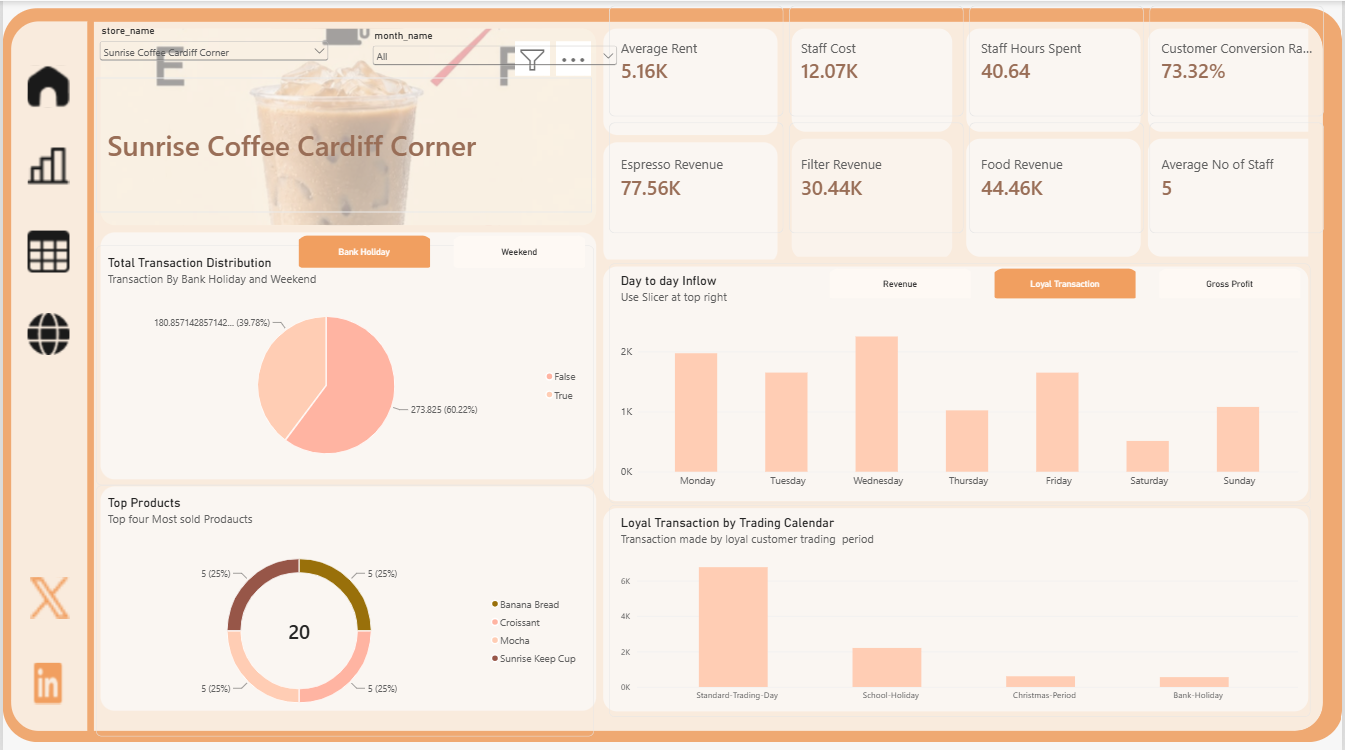

The dashboard page shown, as its layout file describes it:
{"tool":"powerbi","page":{"name":"Store_page","canvas":[1920,1080],"ordinal":1},"visuals":[{"type":"pieChart","title":"Total Transaction Distribution","fields":{"Series":["dim_date.is_uk_bank_holiday"],"Y":["Measure.AVG_total_transaction"]},"box":[133.6,350.7,713.4,343.6],"z":0},{"type":"clusteredColumnChart","title":"Day  to day Inflow","fields":{"Category":["dim_date.day_of_week"],"Y":["Measure.Total_daliy_loyal_transaction"]},"box":[868.5,377,1004.5,343.6],"z":1000},{"type":"cardVisual","fields":{"Data":["Measure.AVG_rent","Measure.AVG_Staff_cost","Measure.AVG_staff_hours","Measure.customer_conversion_rate","Measure.Total_espresso_revenue","Measure.Total_filter_revenue","Measure.Total_food_revenue","Measure.Total_staff_counts"]},"box":[868.5,7.2,1025.9,326.9],"z":2000},{"type":"advancedSlicerVisual","fields":{"Values":["Daliy_store_parameter.Daliy_store_parameter"]},"box":[1171.5,377,701.5,59.6],"z":3000},{"type":"advancedSlicerVisual","fields":{"Values":["Weekday&Holiday.Weekday&Holiday"]},"box":[410.4,329.3,437.5,62.5],"z":4000},{"type":"columnChart","title":"Loyal Transaction by Trading Calendar","fields":{"Category":["dim_date.uk_trading_calendar"],"Y":["Measure.Total_daliy_loyal_transaction"]},"box":[868.5,722.9,1004.5,303],"z":5000},{"type":"donutChart","title":"Top Products ","fields":{"Category":["dim_product.product_name"],"Y":["Daliy_store_parameter.Product_count"]},"box":[133.6,694.3,713.6,359.5],"z":6000},{"type":"actionButton","box":[17.1,75.7,95.7,94.3],"z":7000},{"type":"actionButton","box":[17.1,190,95.7,94.3],"z":8000},{"type":"actionButton","box":[17.1,311.4,95.7,94.3],"z":9000},{"type":"actionButton","box":[17.1,430,95.7,94.3],"z":10000},{"type":"actionButton","box":[17.5,930,95.7,94.3],"z":11000},{"type":"actionButton","box":[18.6,807.1,95.7,94.3],"z":12000},{"type":"slicer","fields":{"Values":["dim_store.store_name"]},"box":[132.3,33.8,337.8,73.2],"z":13000},{"type":"cardVisual","fields":{"Data":["Measure.Current Store Selection"]},"box":[132.5,110,712.5,192.5],"z":14000},{"type":"slicer","fields":{"Values":["dim_date.month_name"]},"box":[524.9,40.6,360.3,59.6],"z":16000}]}

Visuals, with their boxes on the page's 1920x1080 design canvas (x1, y1, x2, y2). These are canvas units, not pixel positions in the 1345x750 screenshot, which may show the page scaled, cropped or inside an application window:
"Total Transaction Distribution" pieChart: (134,351,847,694)
"Day  to day Inflow" clusteredColumnChart: (868,377,1873,721)
cardVisual - Measure.AVG_rent x Measure.AVG_Staff_cost: (868,7,1894,334)
advancedSlicerVisual - Daliy_store_parameter.Daliy_store_parameter: (1172,377,1873,437)
advancedSlicerVisual - Weekday&Holiday.Weekday&Holiday: (410,329,848,392)
"Loyal Transaction by Trading Calendar" columnChart: (868,723,1873,1026)
"Top Products " donutChart: (134,694,847,1054)
actionButton: (17,76,113,170)
actionButton: (17,190,113,284)
actionButton: (17,311,113,406)
actionButton: (17,430,113,524)
actionButton: (18,930,113,1024)
actionButton: (19,807,114,901)
slicer - dim_store.store_name: (132,34,470,107)
cardVisual - Measure.Current Store Selection: (132,110,845,302)
slicer - dim_date.month_name: (525,41,885,100)
